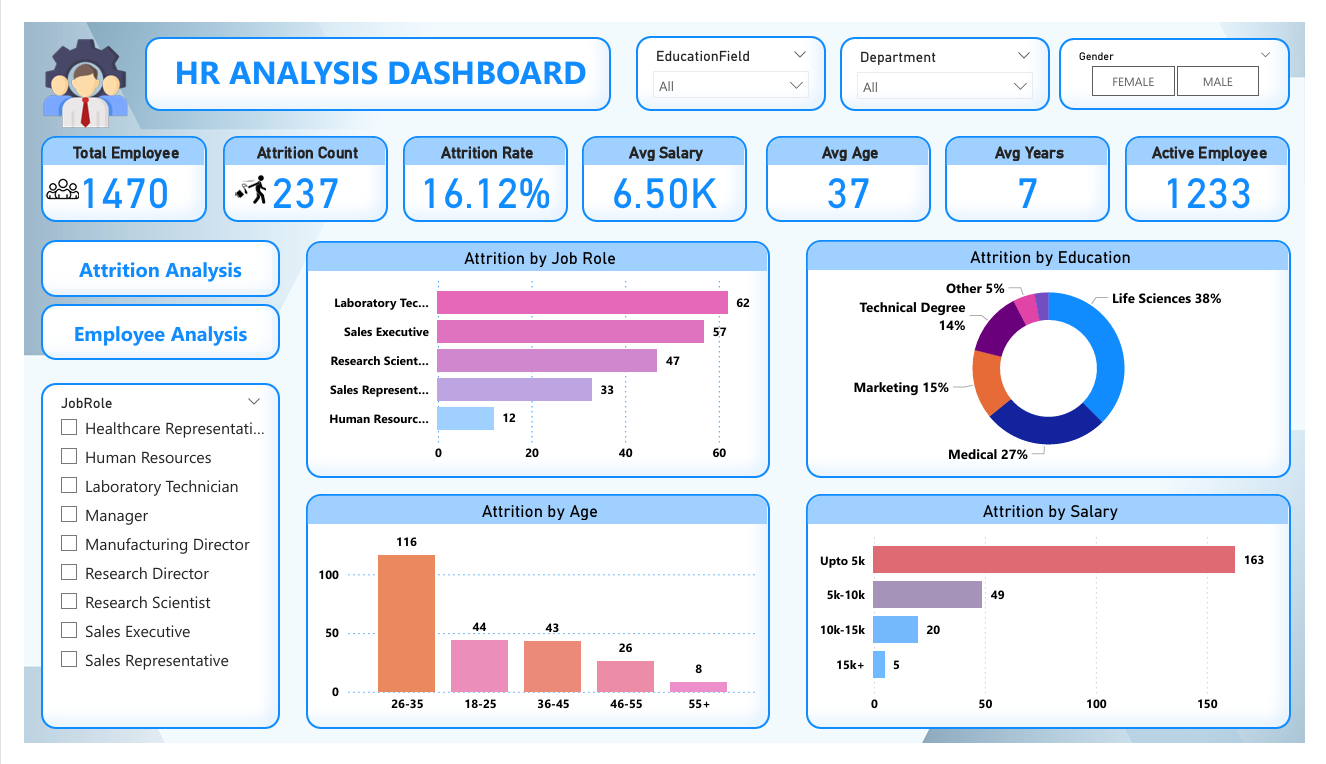

This screenshot's page, from the dashboard's own definition file:
{"tool":"powerbi","page":{"name":"Page 2","canvas":[1280,720],"ordinal":1},"visuals":[{"type":"donutChart","title":"Attrition by Education","fields":{"Category":["HR_Analytics.EducationField"],"Y":["Sum(HR_Analytics.AttritionCount)"]},"box":[780.6,217.5,485.3,237.6],"z":0},{"type":"columnChart","title":"Attrition by Age","fields":{"Category":["HR_Analytics.AgeGroup"],"Y":["Sum(HR_Analytics.AttritionCount)"]},"box":[280.8,470.9,463.7,234.7],"z":1000},{"type":"barChart","title":"Attrition by Salary","fields":{"Category":["HR_Analytics.SalarySlab"],"Y":["Sum(HR_Analytics.AttritionCount)"]},"box":[780.6,470.9,485.3,234.7],"z":2000},{"type":"barChart","title":"Attrition by Job Role","fields":{"Category":["HR_Analytics.JobRole"],"Y":["Sum(HR_Analytics.AttritionCount)"]},"box":[281.1,217.9,464,236.7],"z":3000},{"type":"slicer","title":"Attrition by Year at Company","fields":{"Values":["HR_Analytics.Gender"]},"box":[1034.2,14.8,231.3,72.6],"z":4000},{"type":"slicer","fields":{"Values":["HR_Analytics.Department"]},"box":[815.1,14.4,210.3,73.4],"z":5000},{"type":"slicer","fields":{"Values":["HR_Analytics.EducationField"]},"box":[610.6,13,190.1,74.9],"z":6000},{"type":"textbox","box":[119.5,14.4,466.6,73.4],"z":7000},{"type":"image","box":[0,8.6,119.5,103.7],"z":8000},{"type":"actionButton","box":[15.8,280.8,239.1,56.2],"z":9000},{"type":"card","title":"Attrition Count","fields":{"Values":["HR_Analytics.Employees Left"]},"box":[197.7,113,165.4,86.1],"z":10000},{"type":"card","title":"Total Employee","fields":{"Values":["HR_Analytics.Total Employees"]},"box":[16.1,113,165.4,86.1],"z":11000},{"type":"card","title":"Attrition Rate","fields":{"Values":["HR_Analytics.AttritionRate"]},"box":[377.9,113,165.4,86.1],"z":12000},{"type":"card","title":"Avg Salary","fields":{"Values":["HR_Analytics.Avg Monthly Income"]},"box":[556.8,113,165.4,86.1],"z":13000},{"type":"card","title":"Avg Age","fields":{"Values":["HR_Analytics.Average Age"]},"box":[741,113,165.4,86.1],"z":14000},{"type":"card","title":"Avg Years","fields":{"Values":["Avg(HR_Analytics.YearsAtCompany)"]},"box":[919.9,113,165.4,86.1],"z":15000},{"type":"card","title":"Active Employee","fields":{"Values":["HR_Analytics.Active Employees"]},"box":[1100.1,113,165.4,86.1],"z":16000},{"type":"actionButton","box":[15.8,217.5,239.1,56.2],"z":17000},{"type":"slicer","fields":{"Values":["HR_Analytics.JobRole"]},"box":[15.8,360,239.1,345.6],"z":18000},{"type":"image","box":[16,115.3,44.2,101.8],"z":19000},{"type":"image","box":[197.5,146,57.7,40.5],"z":20000}]}

Visuals, with their boxes in screenshot pixels (x1, y1, x2, y2), scaled from the page's 1280x720 canvas onto the 1326x764 screenshot:
"Attrition by Education" donutChart: 809, 231, 1311, 483
"Attrition by Age" columnChart: 291, 500, 771, 749
"Attrition by Salary" barChart: 809, 500, 1311, 749
"Attrition by Job Role" barChart: 291, 231, 772, 482
"Attrition by Year at Company" slicer: 1071, 16, 1311, 93
slicer - HR_Analytics.Department: 844, 15, 1062, 93
slicer - HR_Analytics.EducationField: 633, 14, 829, 93
textbox: 124, 15, 607, 93
image: 0, 9, 124, 119
actionButton: 16, 298, 264, 358
"Attrition Count" card: 205, 120, 376, 211
"Total Employee" card: 17, 120, 188, 211
"Attrition Rate" card: 391, 120, 563, 211
"Avg Salary" card: 577, 120, 748, 211
"Avg Age" card: 768, 120, 939, 211
"Avg Years" card: 953, 120, 1124, 211
"Active Employee" card: 1140, 120, 1311, 211
actionButton: 16, 231, 264, 290
slicer - HR_Analytics.JobRole: 16, 382, 264, 749
image: 17, 122, 62, 230
image: 205, 155, 264, 198
